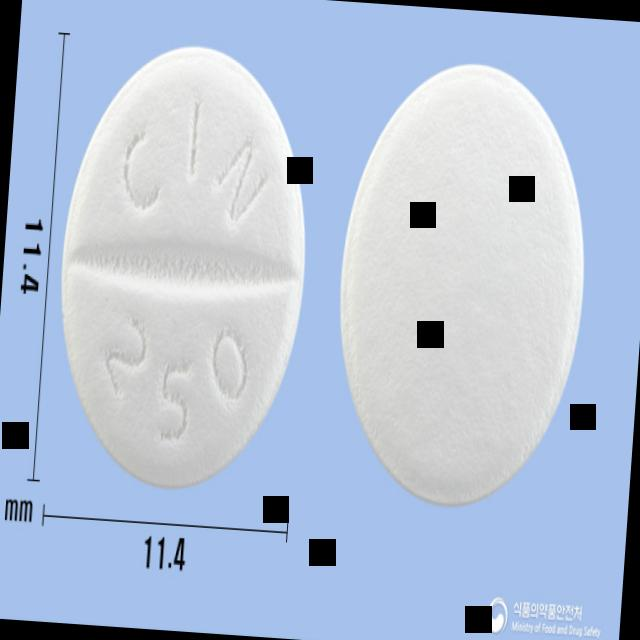Amoclan - Myungmoon: (325, 53, 599, 515), (47, 36, 320, 496)
